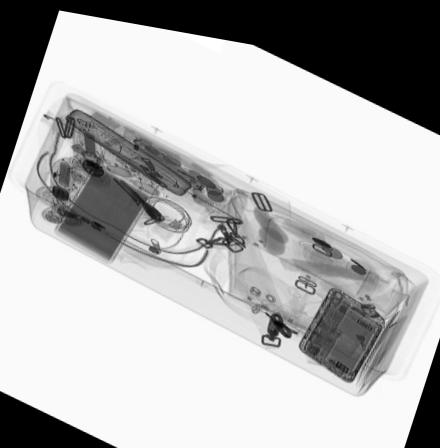Powerbank: (52, 159, 152, 260)
